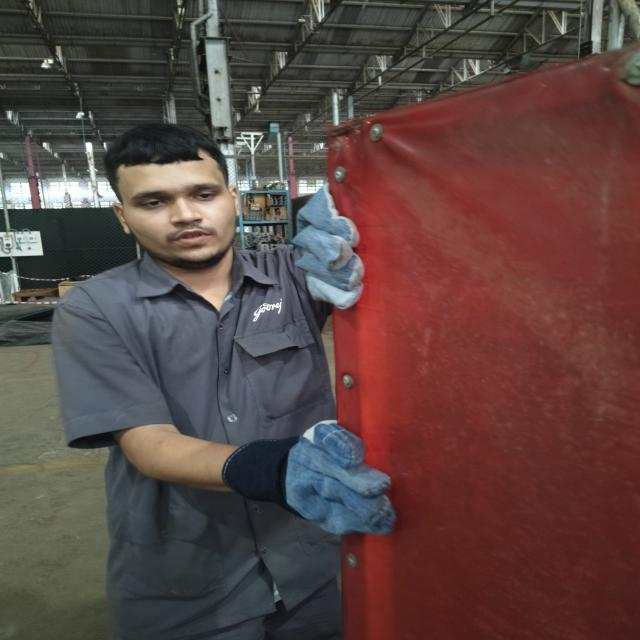Gloves-Detection: (231, 427, 398, 541), (297, 196, 373, 302)
